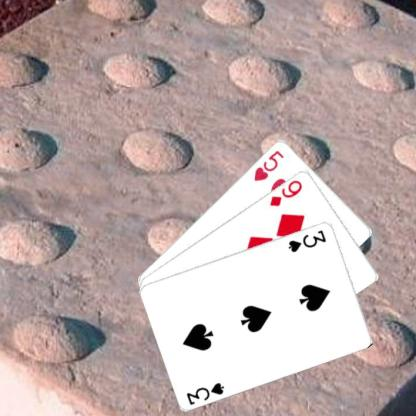3S: (184, 380, 226, 406), (286, 227, 327, 253)
5H: (252, 148, 286, 182)
9D: (267, 177, 304, 207)
